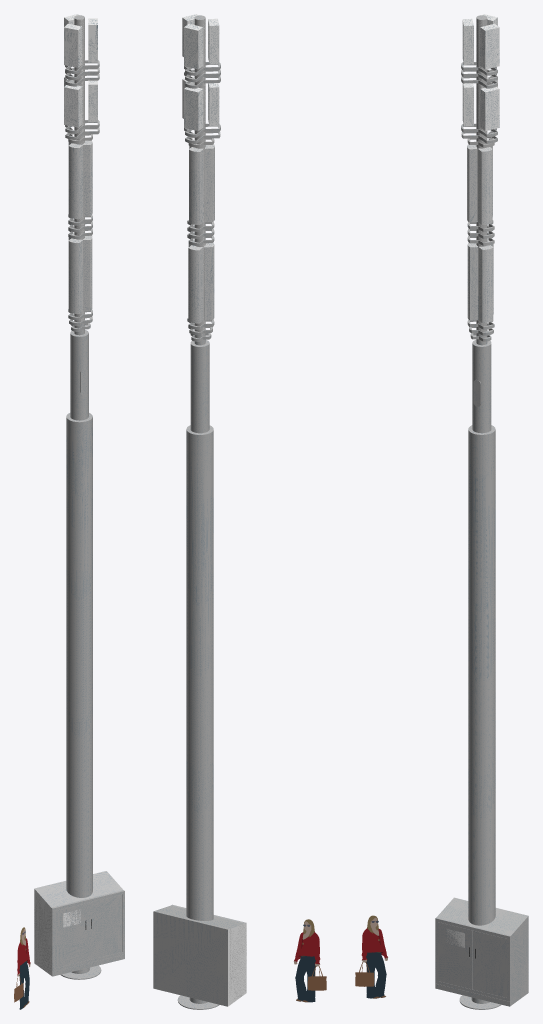
3 views of the same model, side by side, from view 1: azimuth 30°, elevation 25°; view 2: azimuth 150°, elevation 25°; view 3: azimuth 330°, elevation 25° (orthographic). The views are drawn at different scales.
Parts seen in each view (by area): view 1: SketchUp (×6), group_18 (×2), group_8, group_5, group_17 (×2), group_7, group_4, Laura (×2); view 2: SketchUp (×5), group_16 (×2), Laura (×2), group_3, group_9, group_18 (×2), group_5, group_8; view 3: SketchUp (×5), group_17 (×2), Laura (×2), group_4, group_7, group_18 (×2), group_5, group_8.
Part boxes in pixels (x1,y1,x2,y2): SketchUp (×6): [34, 15, 124, 979]; group_18 (×2): [64, 24, 82, 127]; group_8: [68, 143, 82, 219]; group_5: [68, 238, 82, 313]; group_17 (×2): [88, 18, 97, 122]; group_7: [82, 140, 92, 215]; group_4: [82, 235, 92, 310]; Laura (×2): [17, 938, 30, 1009]; SketchUp (×5): [153, 15, 246, 1006]; group_16 (×2): [184, 24, 203, 130]; Laura (×2): [294, 932, 320, 1002]; group_3: [188, 245, 203, 323]; group_9: [189, 147, 203, 224]; group_18 (×2): [208, 18, 219, 126]; group_5: [204, 243, 214, 320]; group_8: [205, 144, 214, 221]; SketchUp (×5): [435, 15, 528, 1006]; group_17 (×2): [480, 23, 499, 131]; Laura (×2): [361, 928, 387, 998]; group_4: [478, 245, 493, 322]; group_7: [478, 147, 492, 224]; group_18 (×2): [462, 18, 473, 126]; group_5: [467, 242, 478, 320]; group_8: [467, 144, 477, 222].
Size of the model in its own units: 113 by 59.57 by 792.
